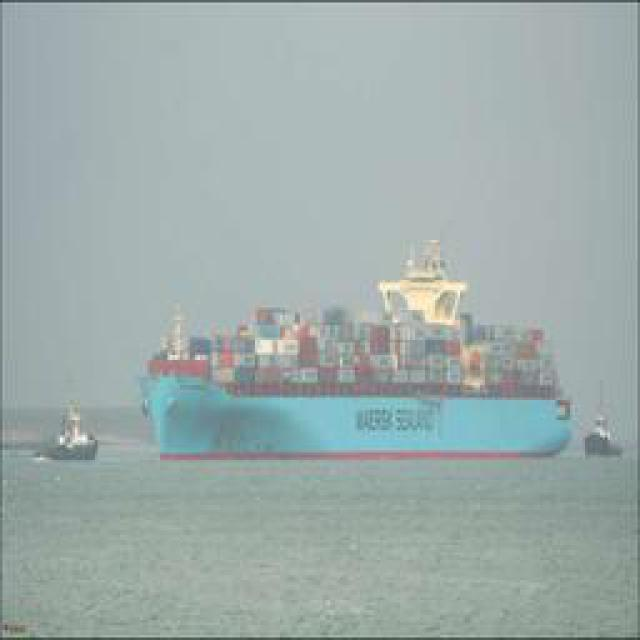Ship: (127, 231, 577, 454)
